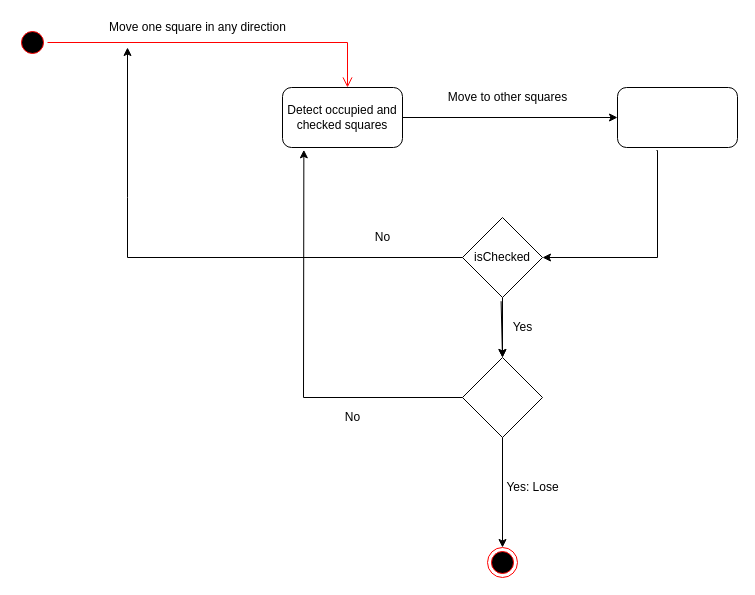
The diagram is 755 pixels wide and 595 high, and some of its shapes have lost their labels. The shapes that lost their labels are listed below. From the top down, each one's centre as x and y in pixels, then its label:
At (x=677, y=117): "Wait to move".
At (x=502, y=397): "isCaptured".
